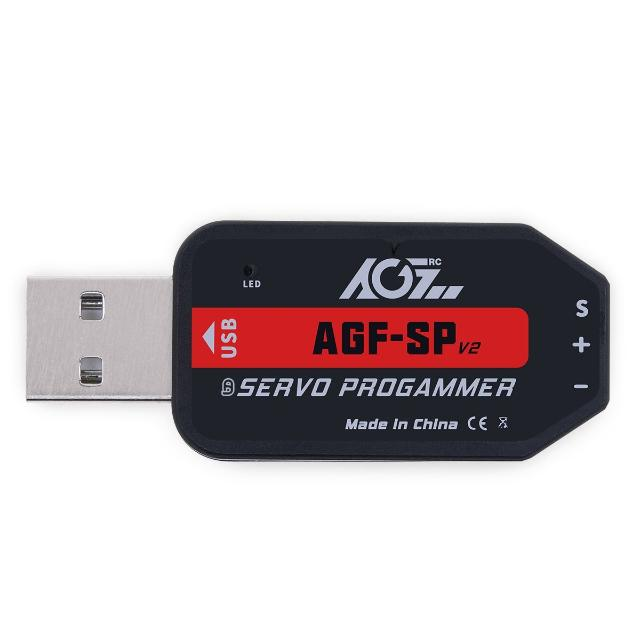USB-Flash-Drive: (20, 204, 622, 524)
